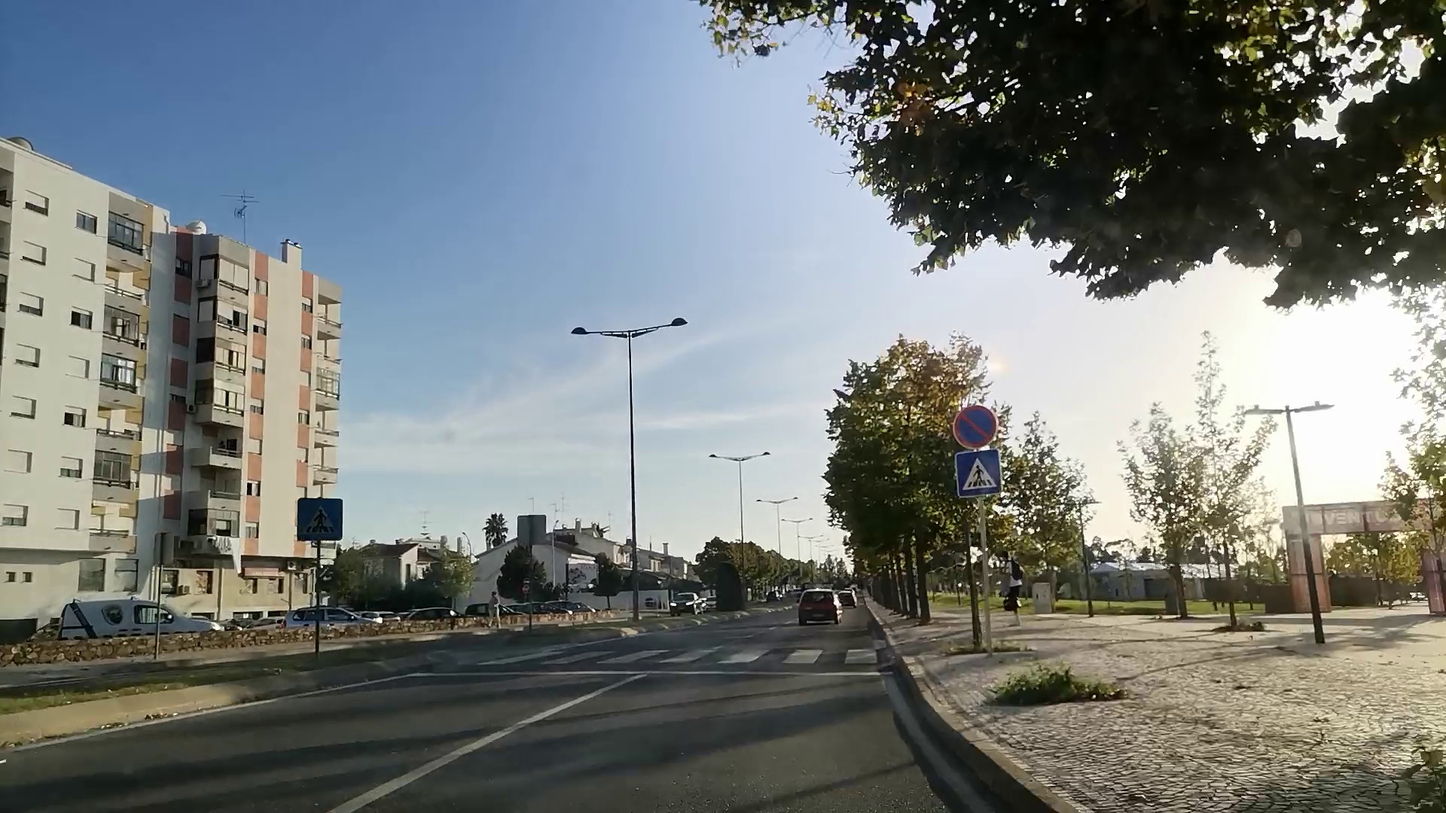Stairs: (505, 640, 890, 684)
